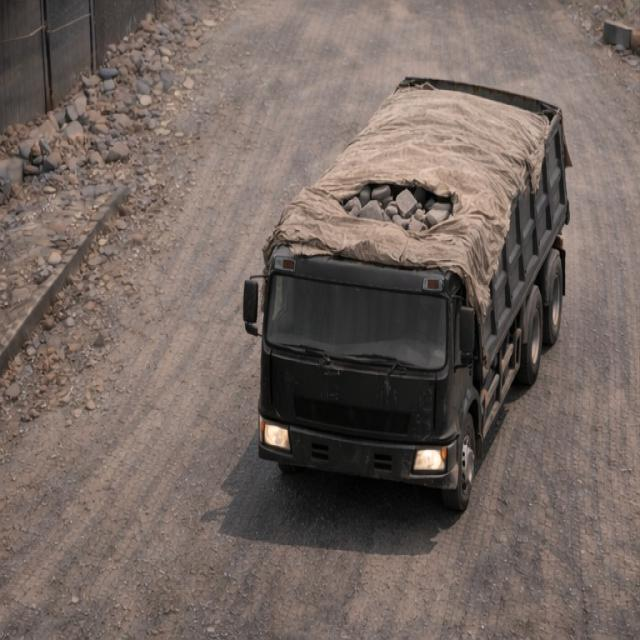Box: (266, 83, 560, 270)
Truck: (233, 82, 612, 516)
